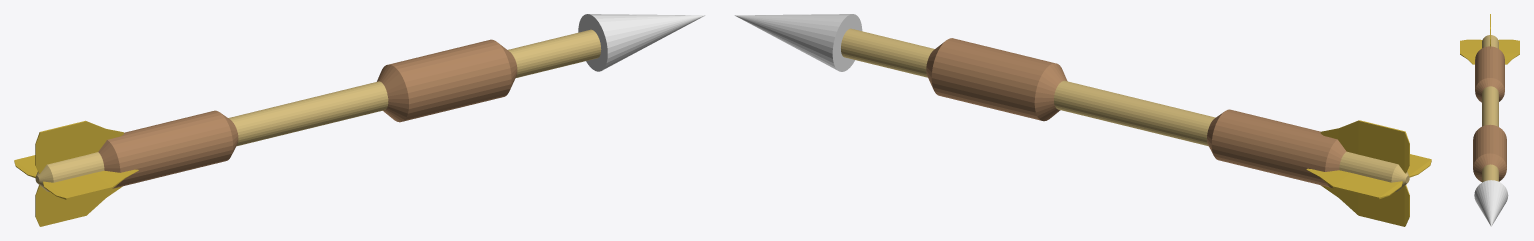
File: dart.fbx
The picture shows the model from 3 angles, left to right: view 1: azimuth 30°, elevation 25°; view 2: azimuth 150°, elevation 25°; view 3: azimuth 270°, elevation 25°; orthographic projection. The views are drawn at different scales.
Visible parts, largest first — view 1: Cylinder, Cylinder.001, Cylinder.002, Cone, Cube, Cube.003, Cube.001, Cube.002; view 2: Cylinder, Cylinder.001, Cylinder.002, Cone, Cube, Cube.003, Cube.002, Cube.001; view 3: Cylinder.001, Cylinder.002, Cylinder, Cone, Cube.001, Cube.002.
Boxes of the visible parts, <box> form: Cylinder: <box>35,29,601,191</box>; Cylinder.001: <box>377,39,517,122</box>; Cylinder.002: <box>98,110,238,188</box>; Cone: <box>578,14,705,71</box>; Cube: <box>35,120,123,173</box>; Cube.003: <box>35,185,122,226</box>; Cube.001: <box>43,169,138,199</box>; Cube.002: <box>14,155,37,177</box>; Cylinder: <box>841,28,1409,191</box>; Cylinder.001: <box>926,38,1067,121</box>; Cylinder.002: <box>1207,109,1346,188</box>; Cone: <box>734,14,862,71</box>; Cube: <box>1320,120,1409,173</box>; Cube.003: <box>1321,185,1409,226</box>; Cube.002: <box>1306,168,1402,199</box>; Cube.001: <box>1407,154,1431,177</box>; Cylinder.001: <box>1473,124,1506,181</box>; Cylinder.002: <box>1475,46,1504,102</box>; Cylinder: <box>1482,35,1498,182</box>; Cone: <box>1474,180,1508,226</box>; Cube.001: <box>1460,39,1482,64</box>; Cube.002: <box>1498,39,1519,64</box>.
Bounding box in the file's own units: 262 × 35.22 × 35.29.
